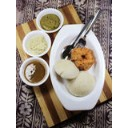idly: (67, 71, 95, 96), (55, 59, 79, 79)
